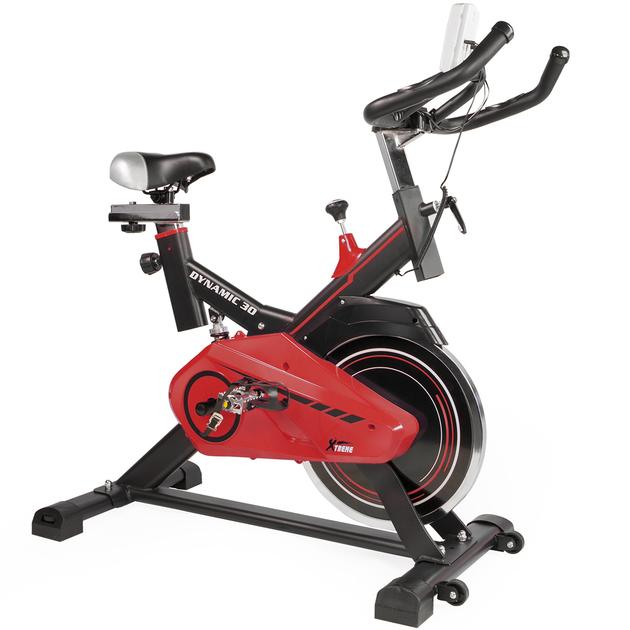gym_bike: (34, 24, 560, 616)
